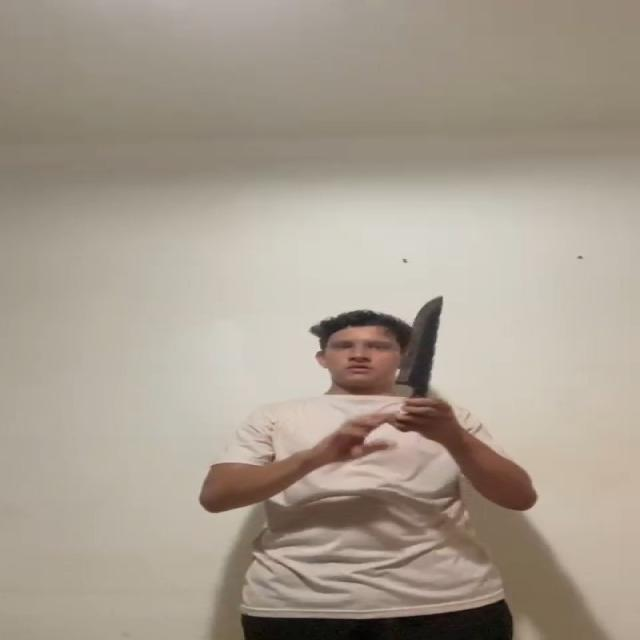knife: (398, 295, 447, 381)
